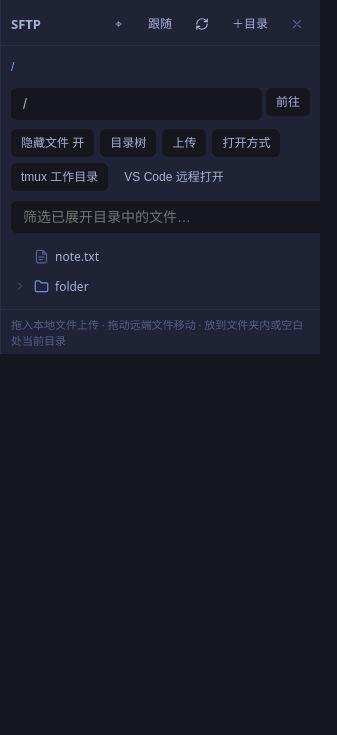
Test: rejects same-name moves without overwriting the target
Expected: the text "note.txt" is shown, [55, 248, 99, 264]
Press the mouse on the text "note.txt" at {"x": 66, "y": 256}, box [34, 248, 99, 264]
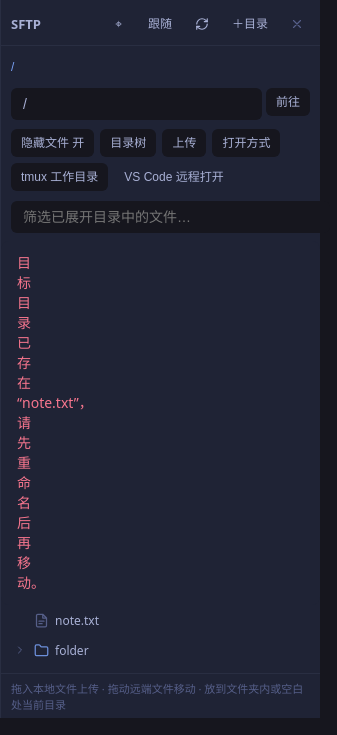
Now the text "目标目录已存在“note.txt”，请先重命名后再移动。" is shown, box [1, 241, 320, 605]
